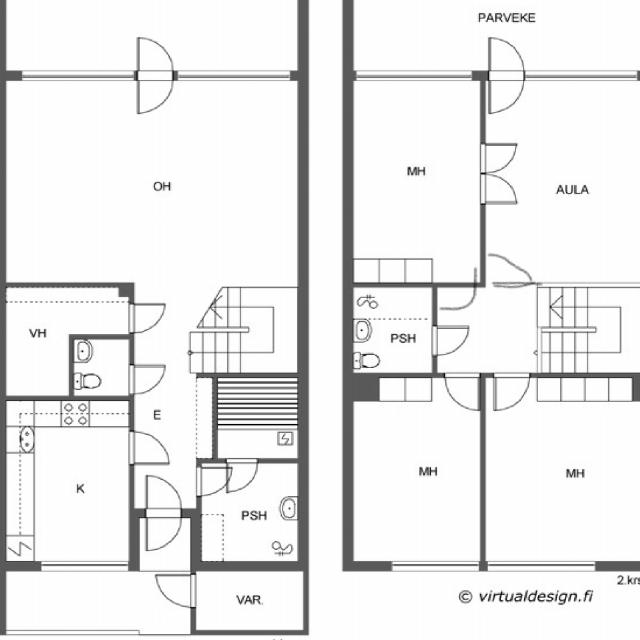door: (489, 70, 524, 114), (489, 37, 524, 81), (138, 70, 172, 113), (138, 38, 172, 80), (147, 476, 181, 518), (147, 508, 181, 550), (488, 249, 523, 287), (444, 372, 478, 410), (155, 575, 195, 607), (496, 373, 530, 410), (129, 432, 168, 464), (445, 282, 478, 318), (432, 326, 468, 355), (129, 365, 164, 394), (226, 458, 256, 491), (196, 468, 230, 496), (129, 305, 163, 332)
